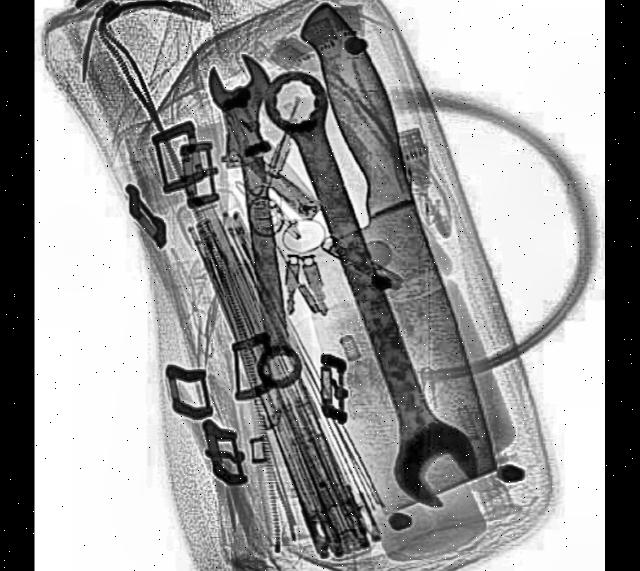Knife: (230, 0, 503, 523)
Wrench: (245, 51, 488, 522), (209, 46, 322, 394)
